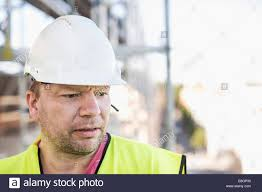Person_wearing_helmet: (19, 10, 124, 109)
